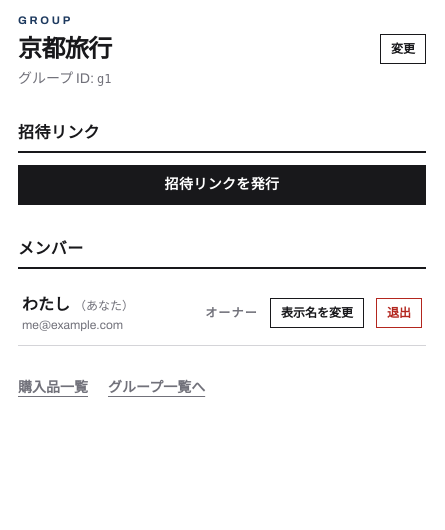
Test case: グループ名の保存に失敗するとエラーメッセージを表示し、フォームは開いたまま残る
This screenshot has width=445, height=530.
Click the button "変更".
click(403, 48)  # box x1=380 y1=34 x2=426 y2=64
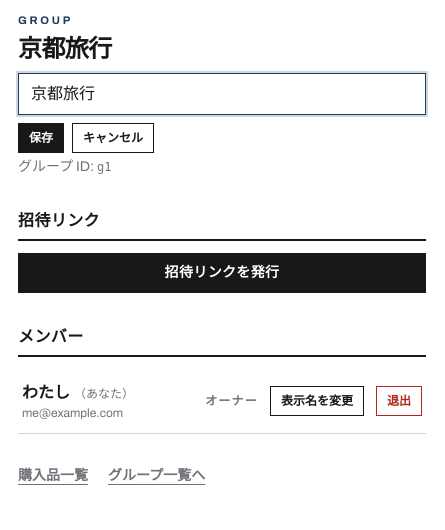
Click the button "保存".
click(41, 138)  # box x1=18 y1=122 x2=64 y2=152
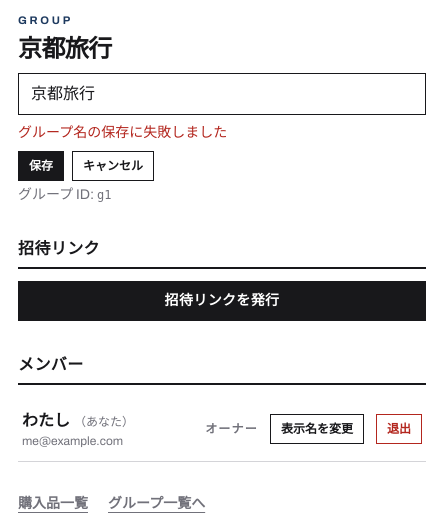
Expected: the field named "グループ名" is shown, x1=18 y1=72 x2=426 y2=114
Expected: the text "グループ名の保存に失敗しました" is shown, x1=18 y1=124 x2=227 y2=140
